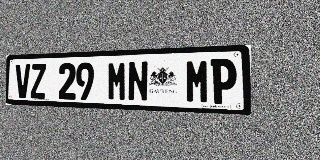2: (59, 63, 76, 100)
9: (76, 62, 94, 100)
M: (185, 59, 210, 104), (107, 61, 127, 101)
N: (128, 61, 148, 102)
P: (211, 58, 237, 105)
V: (16, 64, 30, 98)
Z: (31, 63, 46, 99)
